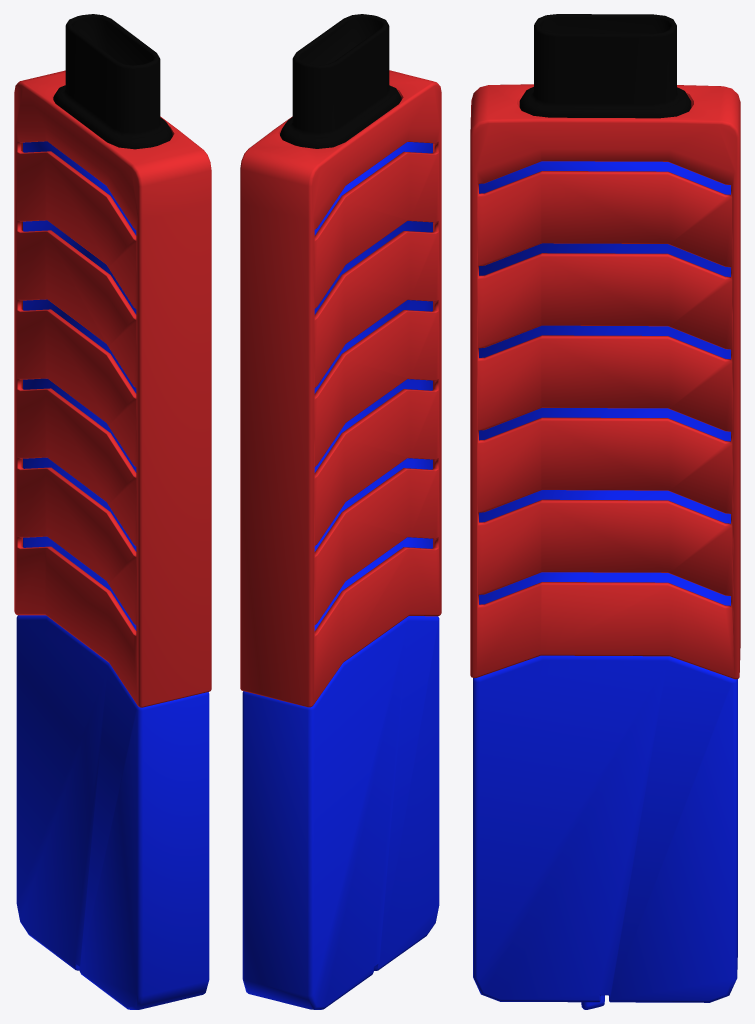
File: vape  4 MULTI.fbx
3 views of the same model, side by side, from view 1: azimuth 30°, elevation 25°; view 2: azimuth 150°, elevation 25°; view 3: azimuth 270°, elevation 25° (orthographic). The views are drawn at different scales.
Parts seen in each view (by area): view 1: Cube.004; view 2: Cube.004; view 3: Cube.004.
Boxes of the visible parts, x1,y1,x2,y2 form: Cube.004: (14,14,211,1009); Cube.004: (240,14,441,1009); Cube.004: (470,14,740,1009).
Bounding box in the file's own units: 18.12 × 219 × 54.74.
